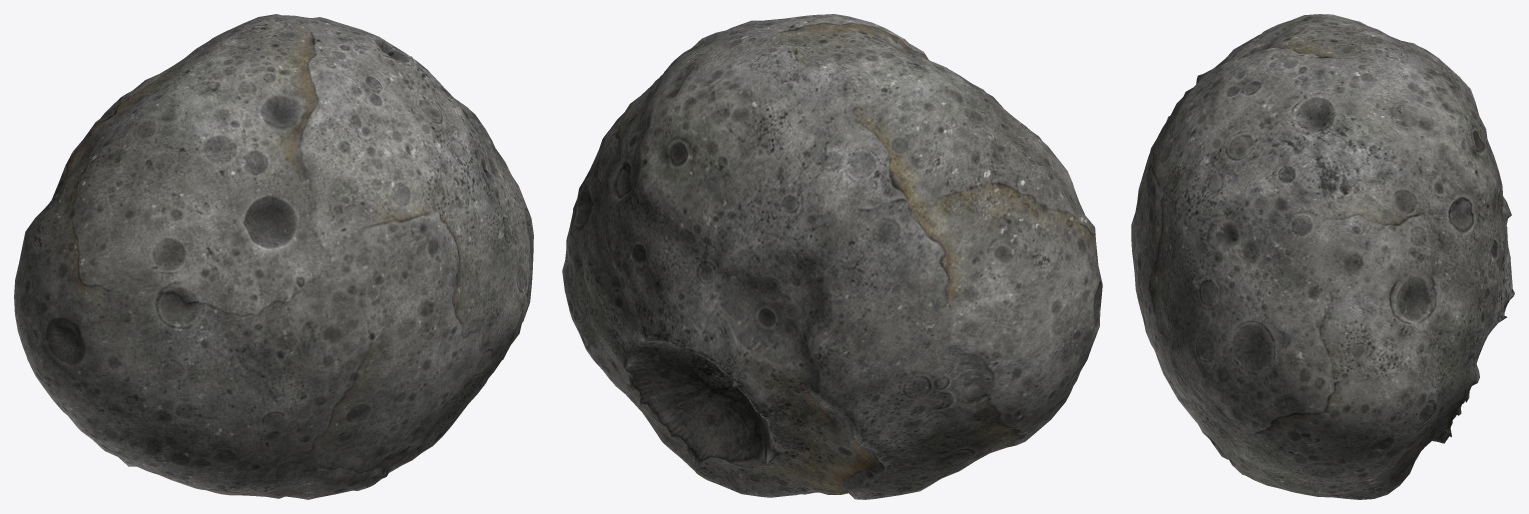
File: psyche.glb
3 renders of one model, left to right at view 1: azimuth 30°, elevation 25°; view 2: azimuth 150°, elevation 25°; view 3: azimuth 270°, elevation 25°, orthographic. The views are drawn at different scales.
Parts seen in each view (by area): view 1: psyche_LP.001; view 2: psyche_LP.001; view 3: psyche_LP.001.
Boxes of the visible parts, x1,y1,x2,y2 form: psyche_LP.001: (14,14,533,499); psyche_LP.001: (562,14,1102,499); psyche_LP.001: (1131,14,1514,499).
Bounding box in the file's own units: 1.34 × 1.15 × 0.9371.
Materials: 1 (1 with a texture image).
